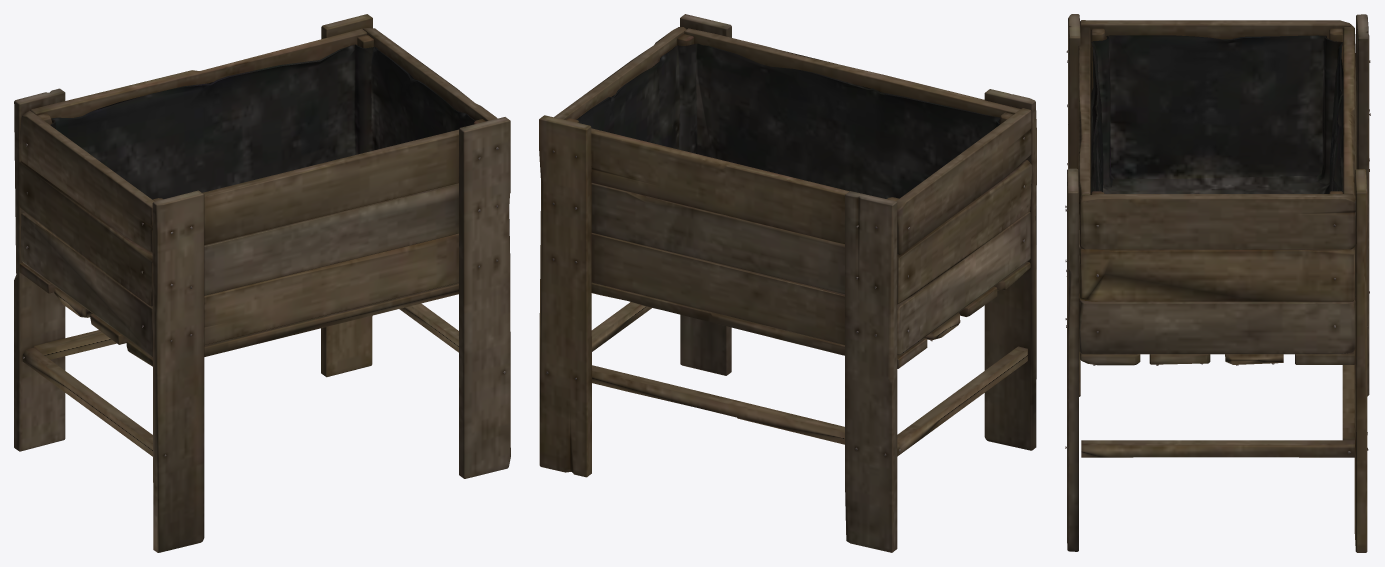
The model's file is planter_box_03.glb.
3 renders of one model, left to right at view 1: azimuth 30°, elevation 25°; view 2: azimuth 150°, elevation 25°; view 3: azimuth 270°, elevation 25°, orthographic. The views are drawn at different scales.
Visible parts, largest first — view 1: planter_box_03; view 2: planter_box_03; view 3: planter_box_03.
Part boxes in pixels (x1,y1,x2,y2): planter_box_03: (14,14,510,552); planter_box_03: (539,14,1036,552); planter_box_03: (1065,14,1370,552).
Bounding box in the file's own units: 0.914 × 0.8551 × 0.6555.
Materials: 1 (1 with a texture image).
